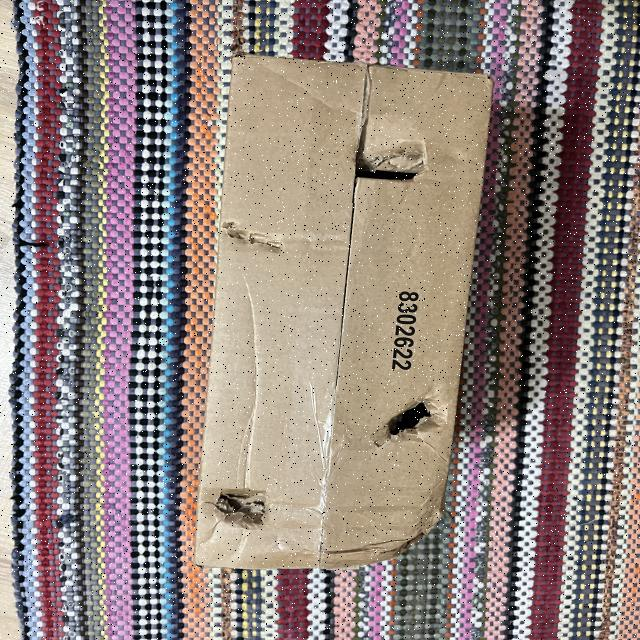damaged: (180, 54, 501, 572), (343, 125, 445, 203), (326, 520, 457, 574), (364, 390, 450, 452), (203, 478, 281, 545), (216, 206, 292, 267)
